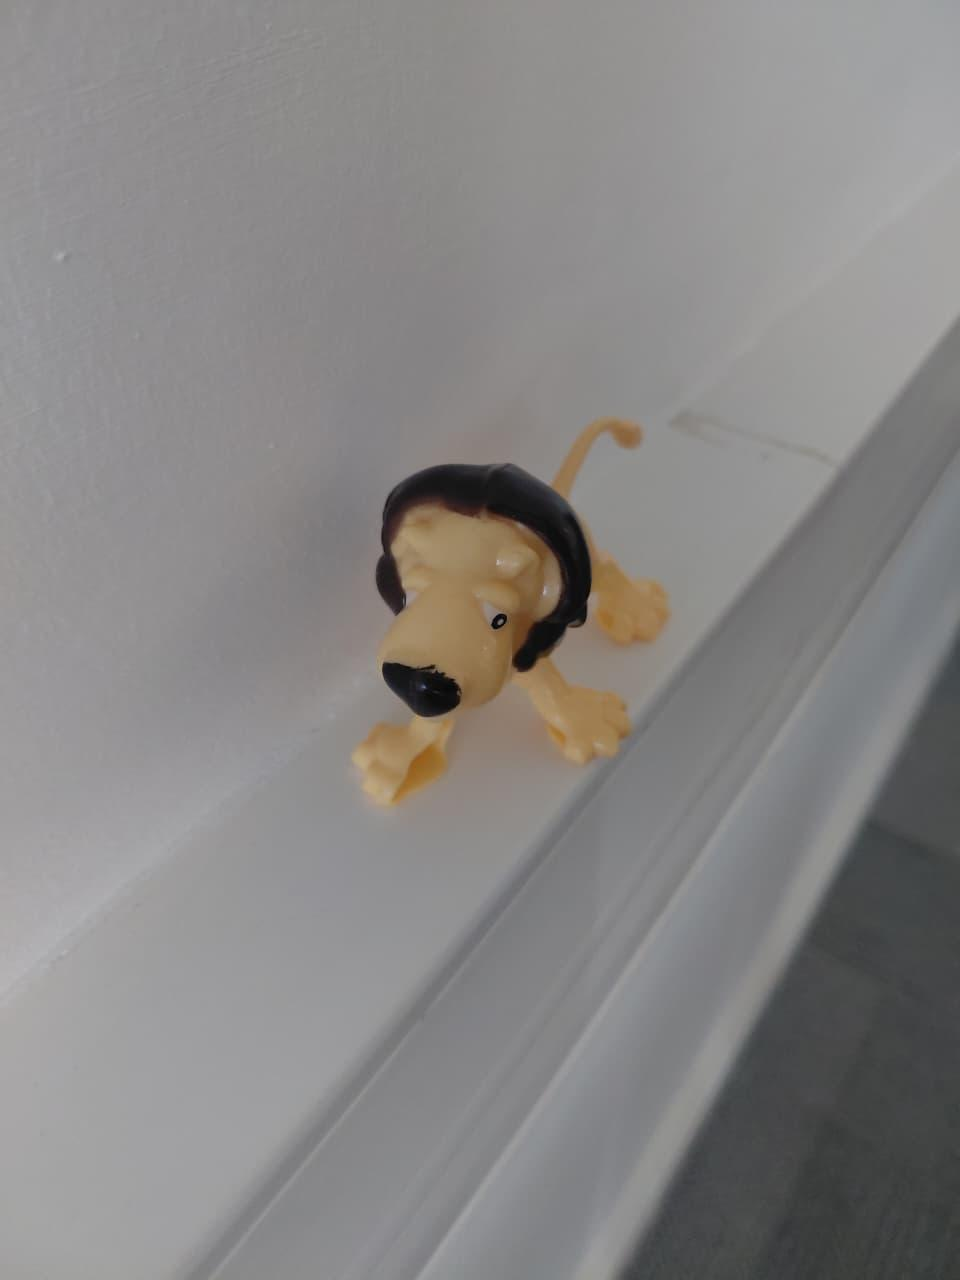lion: (338, 415, 708, 867)
